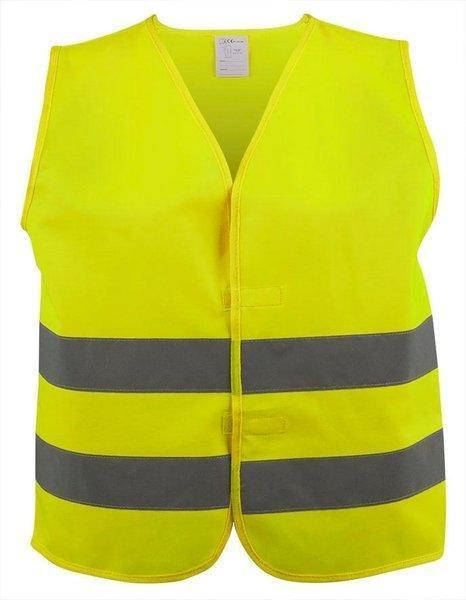vest: (24, 4, 447, 580)
